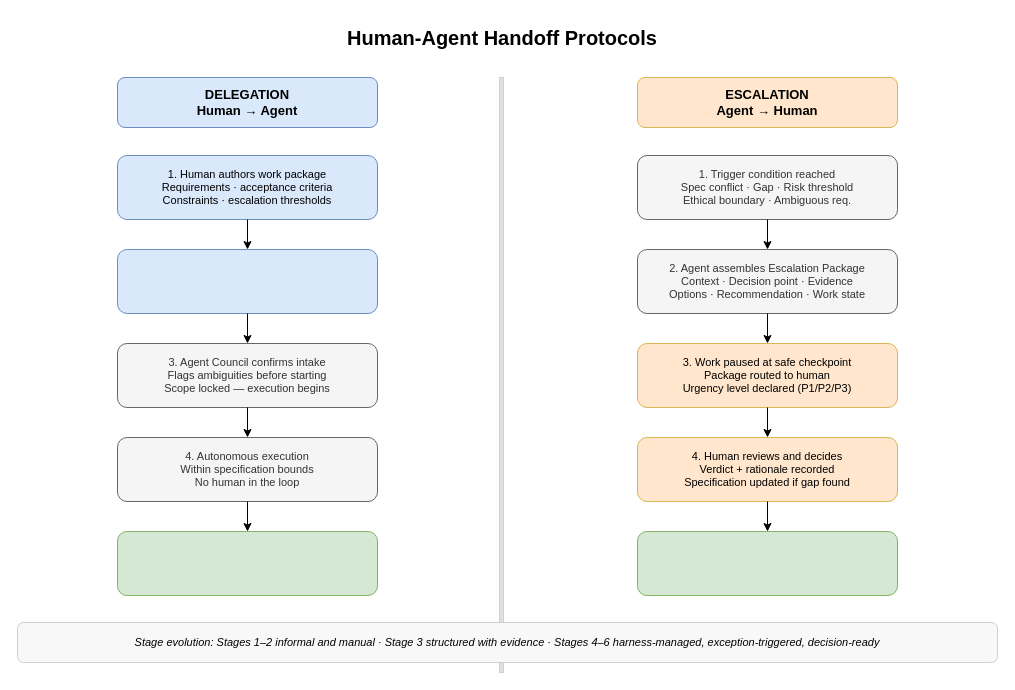
The diagram is 1015 pixels wide and 690 high, and some of its shapes have lost their labels. Each missing label, with the centre of its shape:
"2. Work package transferred Enters Agent Council queue Context bundle attached" belongs at (247,281).
"5. Agent resumes from checkpoint Decision injected as context Audit trail closed" belongs at (767,563).
"5. Delivery + audit trail Summary report to human Human notified, not involved" belongs at (247,563).
